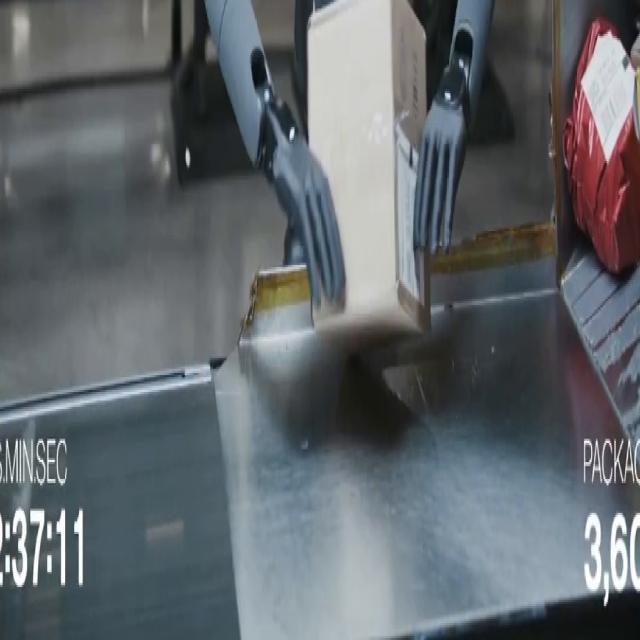package: (308, 0, 430, 343), (564, 20, 639, 273), (631, 34, 639, 69)
